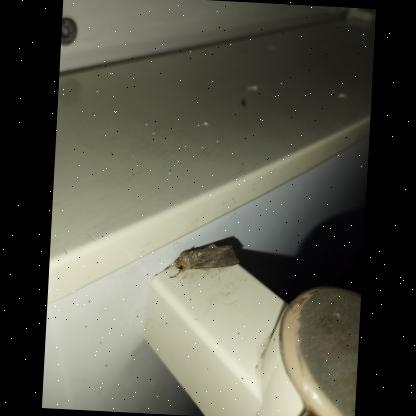Fall Armyworm Moth: (162, 239, 240, 282)
